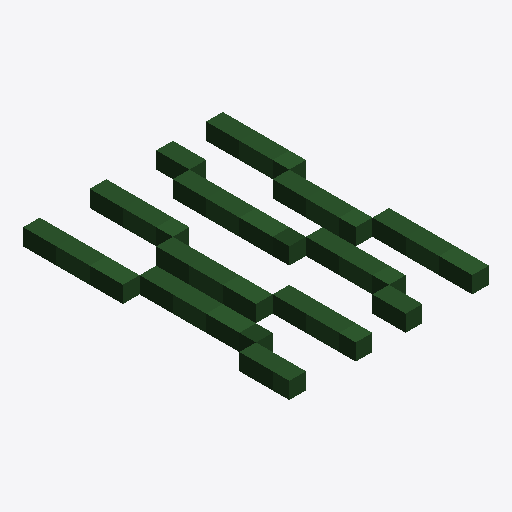
A Minecraft block model of 13 cuboids, rendered isometrically (azimuth 45°, elevation 35.3°) with the resource pack's own textures.
Visible parts, largest first — element 9, element 1, element 2, element 6, element 12, element 11, element 5, element 7, element 13, element 4, element 3, element 8 (+1 smaller).
Boxes of the visible parts, <box> form: element 9: <box>173,170,305,264</box>; element 1: <box>140,266,272,351</box>; element 2: <box>23,218,139,303</box>; element 6: <box>156,237,272,322</box>; element 12: <box>372,208,488,293</box>; element 11: <box>273,170,371,245</box>; element 5: <box>273,285,371,360</box>; element 7: <box>306,227,405,293</box>; element 13: <box>206,112,305,178</box>; element 4: <box>90,179,188,245</box>; element 3: <box>239,343,305,399</box>; element 8: <box>372,285,421,332</box>.
Size of the model in its own units: 12 by 1 by 16.